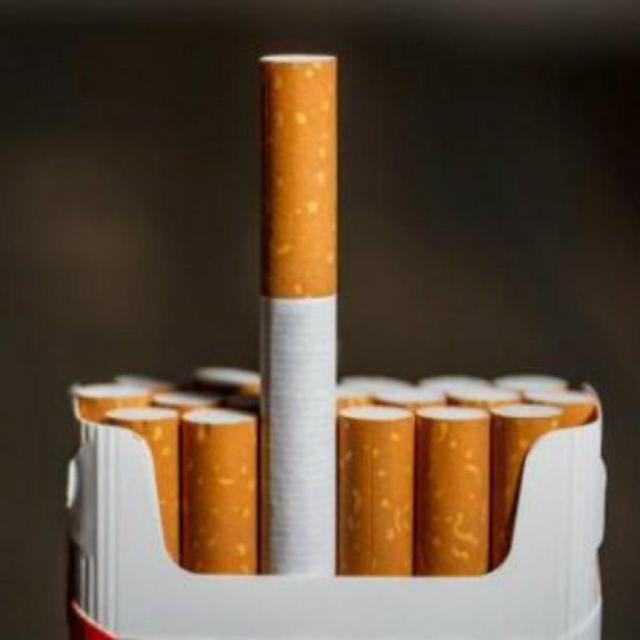smoking: (65, 54, 609, 639)
